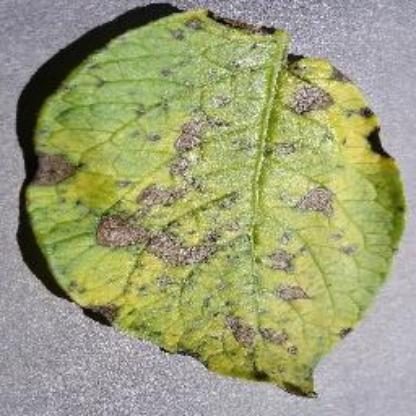Early-Blight: (19, 9, 409, 404)
